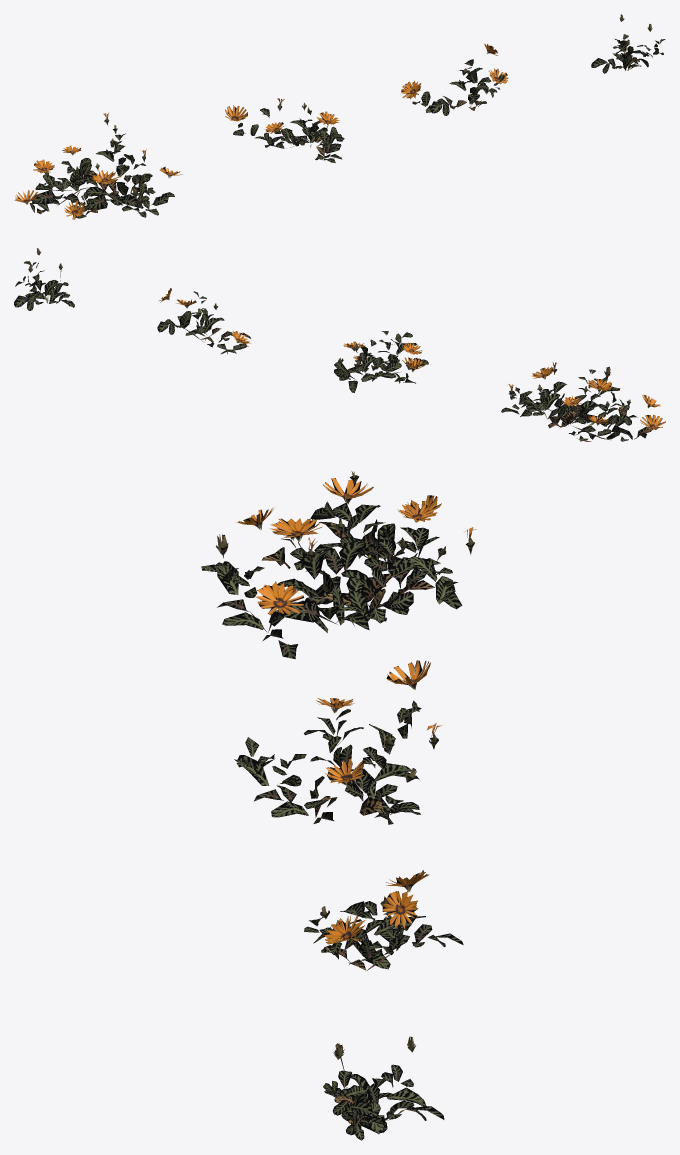
The model's file is ursinia.glb.
3 views of the same model, one above another, from view 1: azimuth 30°, elevation 25°; view 2: azimuth 150°, elevation 25°; view 3: azimuth 270°, elevation 25° (orthographic). The views are drawn at different scales.
Parts seen in each view (by area): view 1: flower_ursinia_a_LOD0, flower_ursinia_b_LOD0, flower_ursinia_c_LOD0, flower_ursinia_d_LOD0; view 2: flower_ursinia_a_LOD0, flower_ursinia_b_LOD0, flower_ursinia_c_LOD0, flower_ursinia_d_LOD0; view 3: flower_ursinia_a_LOD0, flower_ursinia_b_LOD0, flower_ursinia_c_LOD0, flower_ursinia_d_LOD0.
Boxes of the visible parts, x1=… form: flower_ursinia_a_LOD0: x1=14, y1=112, x2=182, y2=219; flower_ursinia_b_LOD0: x1=225, y1=98, x2=344, y2=162; flower_ursinia_c_LOD0: x1=401, y1=43, x2=508, y2=115; flower_ursinia_d_LOD0: x1=591, y1=14, x2=665, y2=73; flower_ursinia_a_LOD0: x1=501, y1=362, x2=665, y2=441; flower_ursinia_b_LOD0: x1=334, y1=331, x2=428, y2=392; flower_ursinia_c_LOD0: x1=157, y1=288, x2=250, y2=354; flower_ursinia_d_LOD0: x1=14, y1=248, x2=74, y2=310; flower_ursinia_a_LOD0: x1=201, y1=471, x2=476, y2=659; flower_ursinia_b_LOD0: x1=234, y1=660, x2=442, y2=824; flower_ursinia_c_LOD0: x1=304, y1=870, x2=463, y2=970; flower_ursinia_d_LOD0: x1=323, y1=1036, x2=444, y2=1140.
Bounding box in the file's own units: 1.85 × 0.1637 × 0.3433.
Materials: 1 (1 with a texture image).
